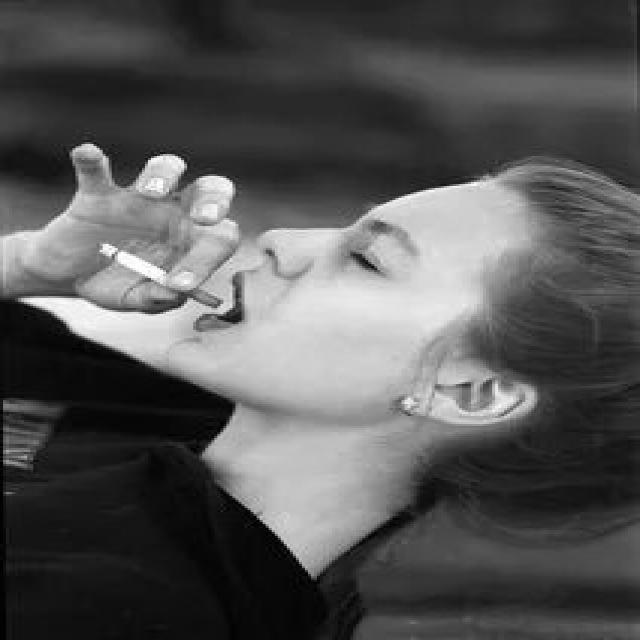smoke: (94, 240, 226, 308)
